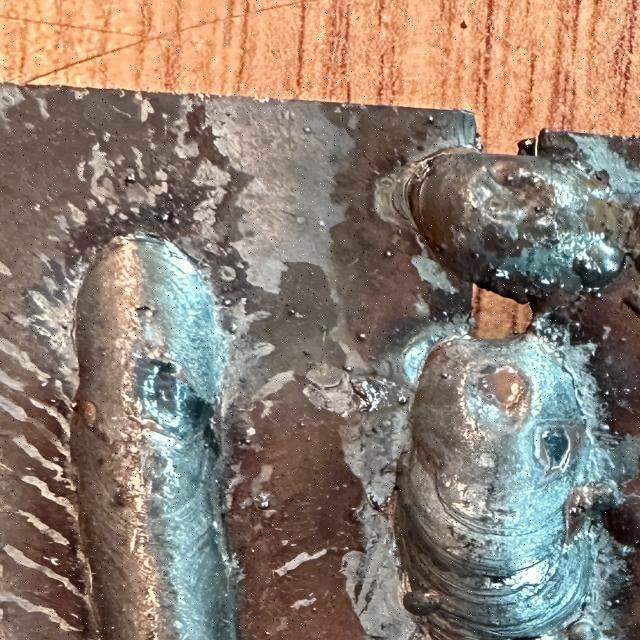Excess Reinforcement: (373, 151, 441, 231)
Spatters: (573, 240, 625, 289), (403, 590, 440, 616), (567, 619, 600, 640), (155, 209, 181, 225), (255, 491, 273, 509), (500, 172, 515, 185), (227, 320, 238, 334), (125, 172, 137, 184), (287, 309, 303, 317), (397, 395, 407, 405), (357, 332, 367, 341), (592, 291, 602, 299), (303, 126, 312, 134), (343, 365, 353, 372), (440, 372, 450, 379), (223, 299, 232, 306), (533, 206, 542, 212), (385, 250, 392, 257), (428, 115, 433, 122)
